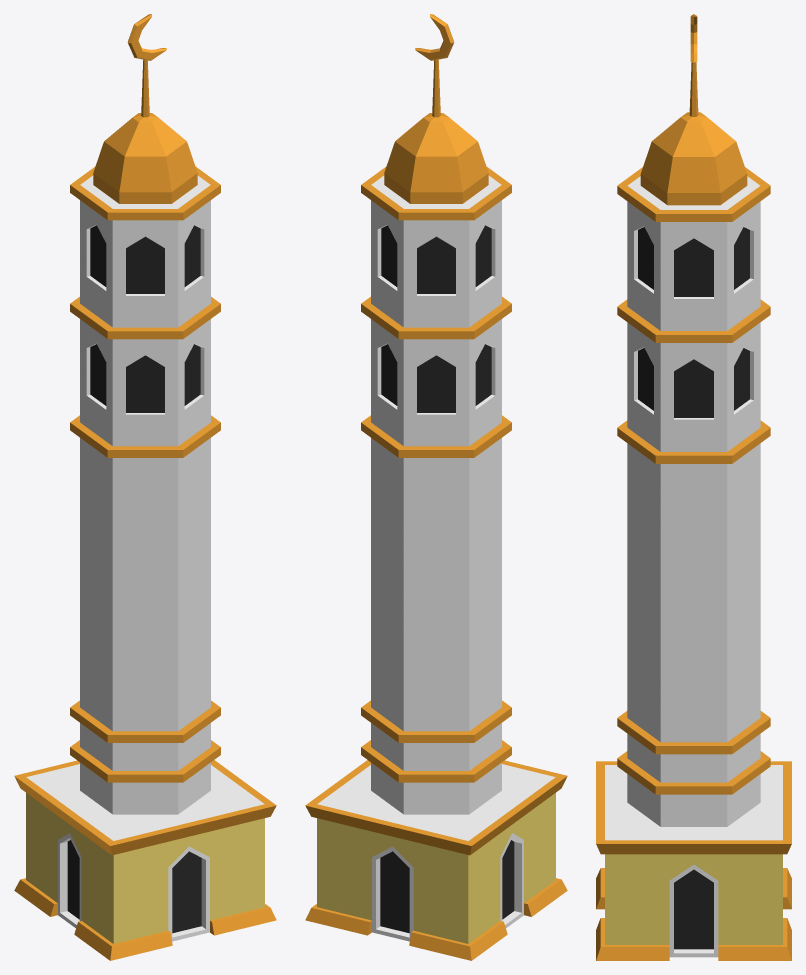
The model's file is buildings_mosque-tower.fbx.
3 views of the same model, side by side, from view 1: azimuth 30°, elevation 25°; view 2: azimuth 150°, elevation 25°; view 3: azimuth 270°, elevation 25° (orthographic).
Visible parts, largest first — view 1: buildings_mosque_tower; view 2: buildings_mosque_tower; view 3: buildings_mosque_tower.
Boxes of the visible parts, x1,y1,x2,y2 form: buildings_mosque_tower: (14,14,276,960); buildings_mosque_tower: (305,14,567,960); buildings_mosque_tower: (596,14,791,960).
Size of the model in its own units: 39.15 by 200 by 39.15.
